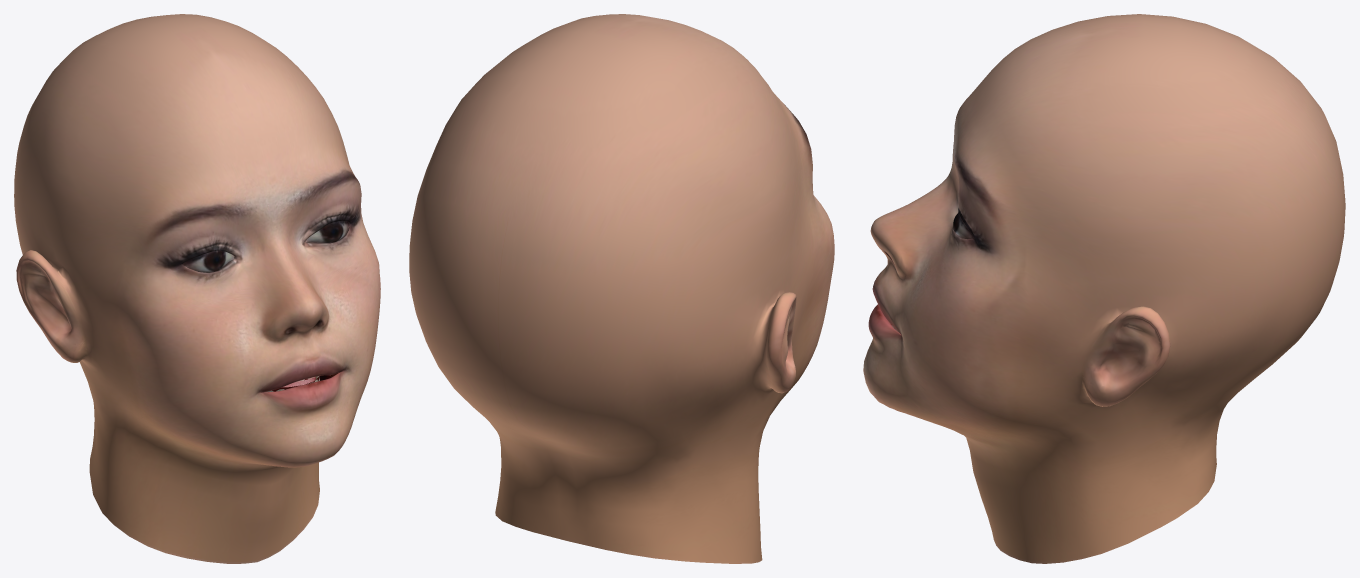
The model's file is scene-processed.glb.
The picture shows the model from 3 angles, left to right: view 1: azimuth 30°, elevation 25°; view 2: azimuth 150°, elevation 25°; view 3: azimuth 270°, elevation 25°; orthographic projection. The views are drawn at different scales.
Parts seen in each view (by area): view 1: FaceGen_0; view 2: FaceGen_0; view 3: FaceGen_0.
Part boxes in pixels (x1,y1,x2,y2): FaceGen_0: (14,14,380,563); FaceGen_0: (409,14,834,563); FaceGen_0: (863,14,1345,563).
Bounding box in the file's own units: 197 × 283 × 242.
7 materials, 7 textured.
